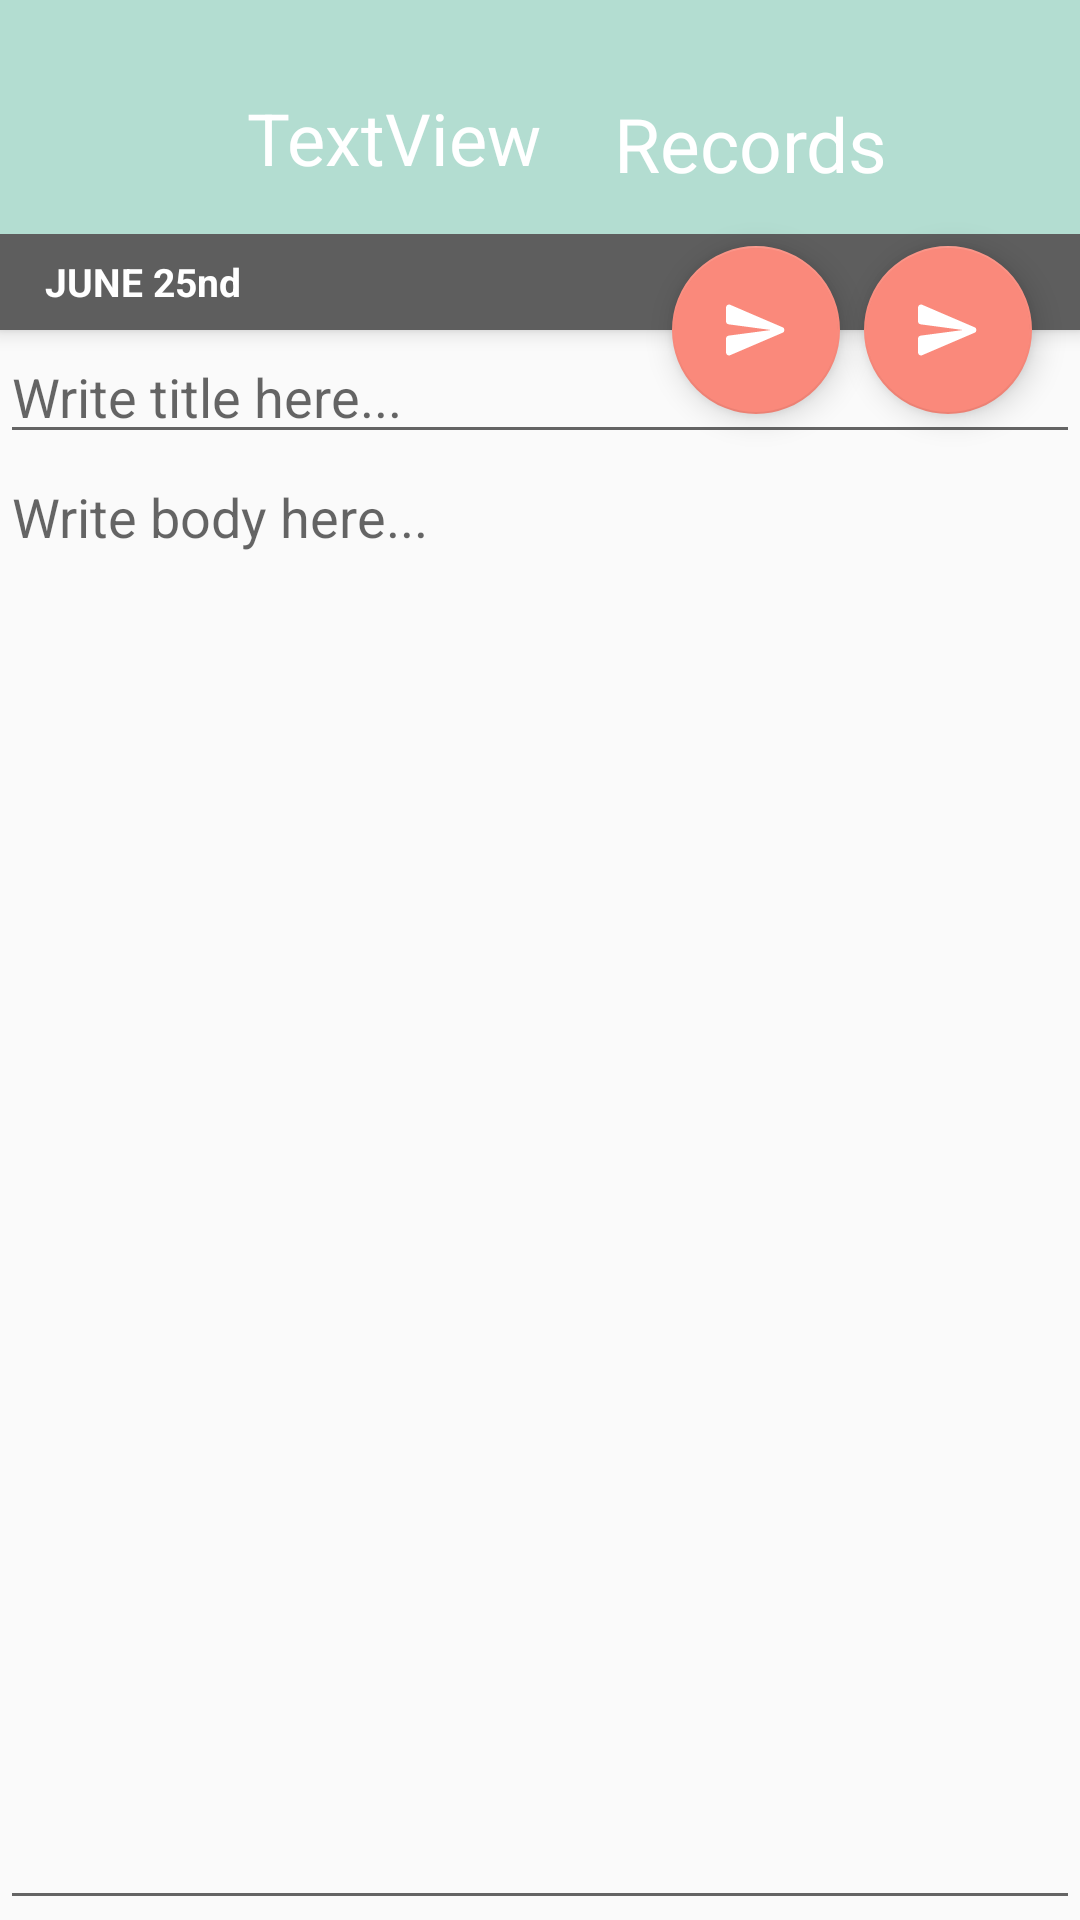

Point at icon controls on the screen. Image size 1080*1920, points as point (x, y).
send: point (756, 330), point (948, 330)
